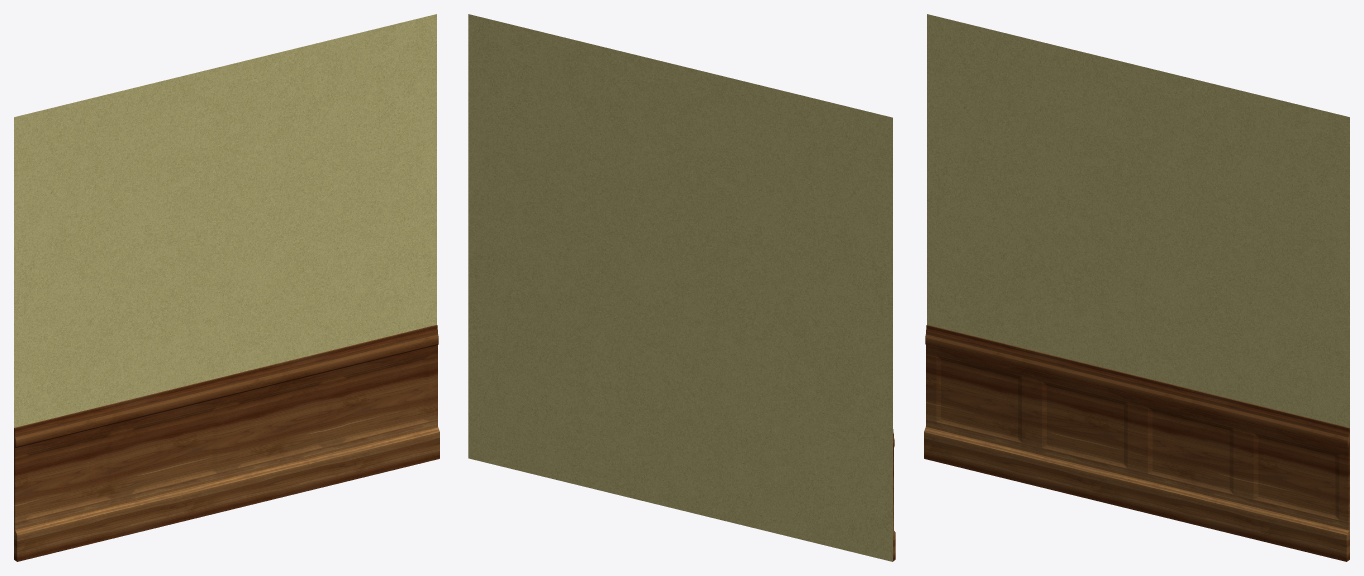
The model's file is Wall n Frame 1.fbx.
3 renders of one model, left to right at view 1: azimuth 30°, elevation 25°; view 2: azimuth 150°, elevation 25°; view 3: azimuth 330°, elevation 25°, orthographic.
Parts seen in each view (by area): view 1: pPlane1, pCube1; view 2: pPlane1; view 3: pPlane1, pCube1.
Boxes of the visible parts, x1,y1,x2,y2 form: pPlane1: [14, 14, 436, 427]; pCube1: [14, 325, 439, 561]; pPlane1: [468, 14, 892, 561]; pPlane1: [927, 14, 1349, 427]; pCube1: [924, 325, 1349, 561].
Bounding box in the file's own units: 20 × 20 × 0.252.
